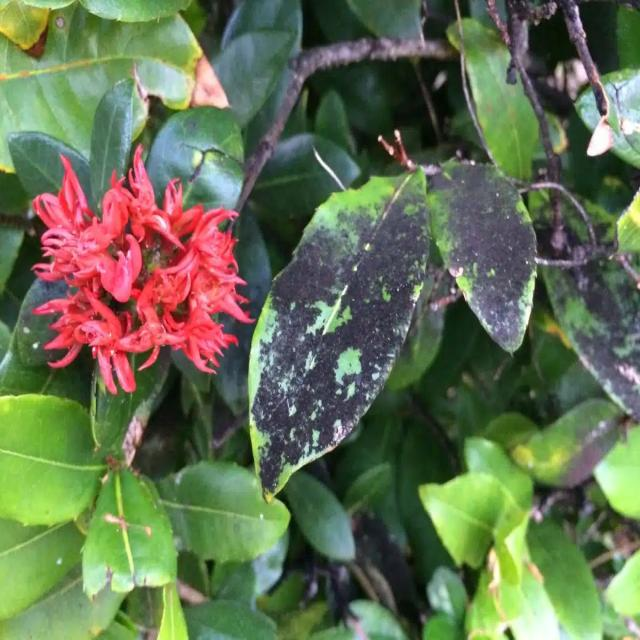Sooty Mold: (264, 14, 640, 432)
